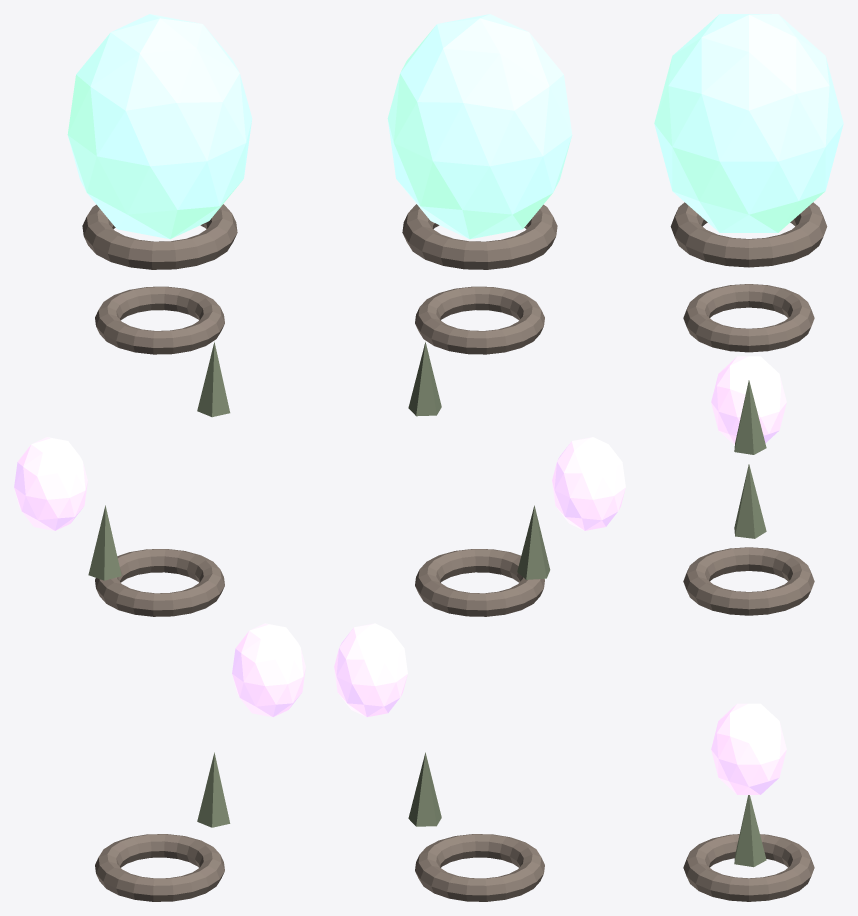
The model's file is weapon_vine_staff-decor.glb.
3 views of the same model, side by side, from view 1: azimuth 30°, elevation 25°; view 2: azimuth 150°, elevation 25°; view 3: azimuth 270°, elevation 25° (orthographic).
Visible parts, largest first — view 1: weapon_vine_staff_decor; view 2: weapon_vine_staff_decor; view 3: weapon_vine_staff_decor.
Part boxes in pixels (<box>): weapon_vine_staff_decor: <box>14,14,305,901</box>; weapon_vine_staff_decor: <box>334,14,625,901</box>; weapon_vine_staff_decor: <box>654,14,843,901</box>.
Size of the model in its own units: 0.2571 by 0.755 by 0.15.
